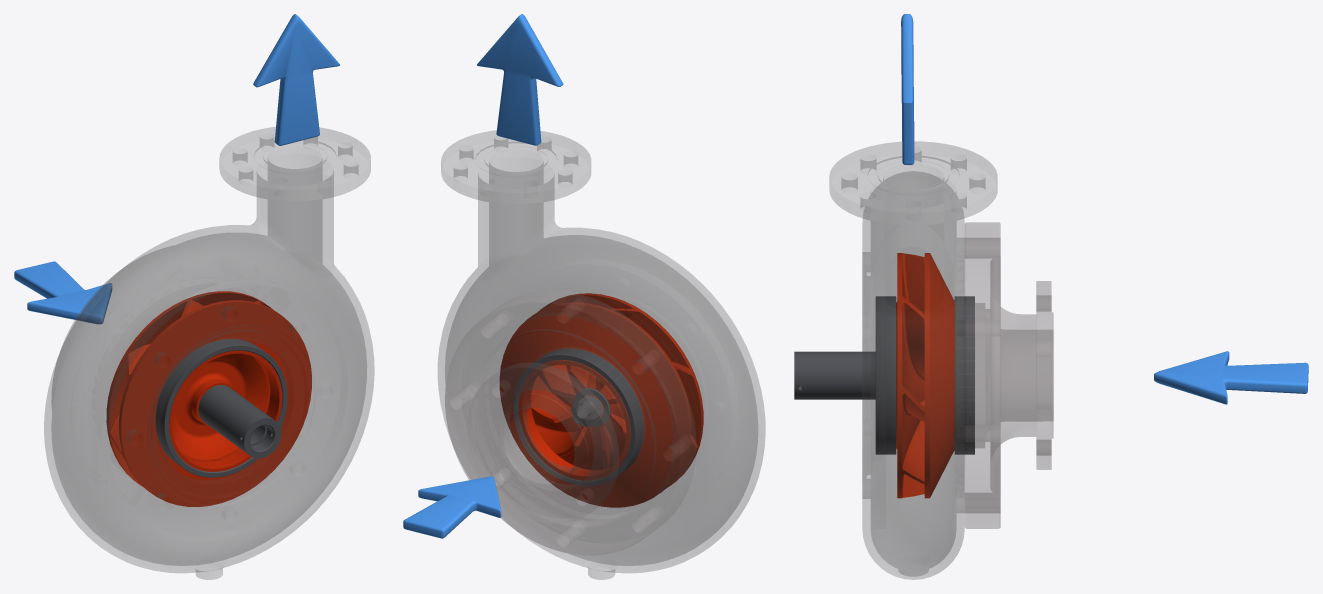
Rendered from pump_animated.glb.
3 views of the same model, side by side, from view 1: azimuth 30°, elevation 25°; view 2: azimuth 150°, elevation 25°; view 3: azimuth 270°, elevation 25° (orthographic). The views are drawn at different scales.
Visible parts, largest first — view 1: casing_1, rotor_5, Arrow_Material.001_0.001_11, frontcase_2, shaft_6, Arrow_Material.001_0_10, back ring_0; view 2: casing_1, frontcase_2, rotor_5, Arrow_Material.001_0.001_11, ring_4, Arrow_Material.001_0_10, nut_3, washer_7; view 3: casing_1, frontcase_2, rotor_5, Arrow_Material.001_0_10, shaft_6, back ring_0, ring_4, Arrow_Material.001_0.001_11.
Boxes of the visible parts, bbox=[...] form: casing_1: bbox=[44, 127, 374, 579]; rotor_5: bbox=[106, 291, 311, 507]; Arrow_Material.001_0.001_11: bbox=[253, 14, 339, 145]; frontcase_2: bbox=[51, 246, 257, 475]; shaft_6: bbox=[198, 385, 281, 458]; Arrow_Material.001_0_10: bbox=[14, 261, 112, 324]; back ring_0: bbox=[155, 338, 287, 477]; casing_1: bbox=[438, 130, 765, 579]; frontcase_2: bbox=[445, 291, 696, 555]; rotor_5: bbox=[499, 293, 703, 507]; Arrow_Material.001_0.001_11: bbox=[477, 14, 563, 145]; ring_4: bbox=[513, 348, 644, 486]; Arrow_Material.001_0_10: bbox=[403, 476, 501, 538]; nut_3: bbox=[570, 395, 603, 427]; washer_7: bbox=[574, 388, 610, 426]; casing_1: bbox=[829, 141, 997, 579]; frontcase_2: bbox=[956, 222, 1053, 528]; rotor_5: bbox=[896, 253, 954, 498]; Arrow_Material.001_0_10: bbox=[1154, 351, 1308, 404]; shaft_6: bbox=[794, 351, 875, 399]; back ring_0: bbox=[875, 296, 896, 454]; ring_4: bbox=[954, 296, 974, 454]; Arrow_Material.001_0.001_11: bbox=[901, 14, 914, 164].
Bounding box in the file's own units: 1.1 × 1.78 × 1.38.
